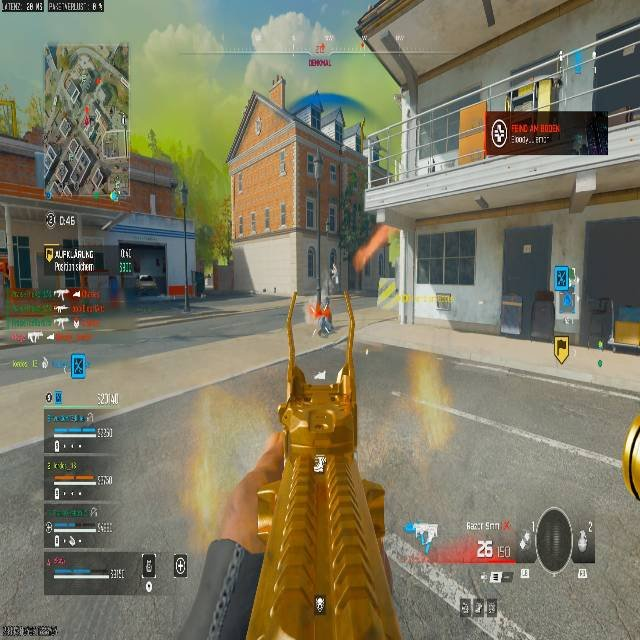player: (194, 271, 206, 300)
